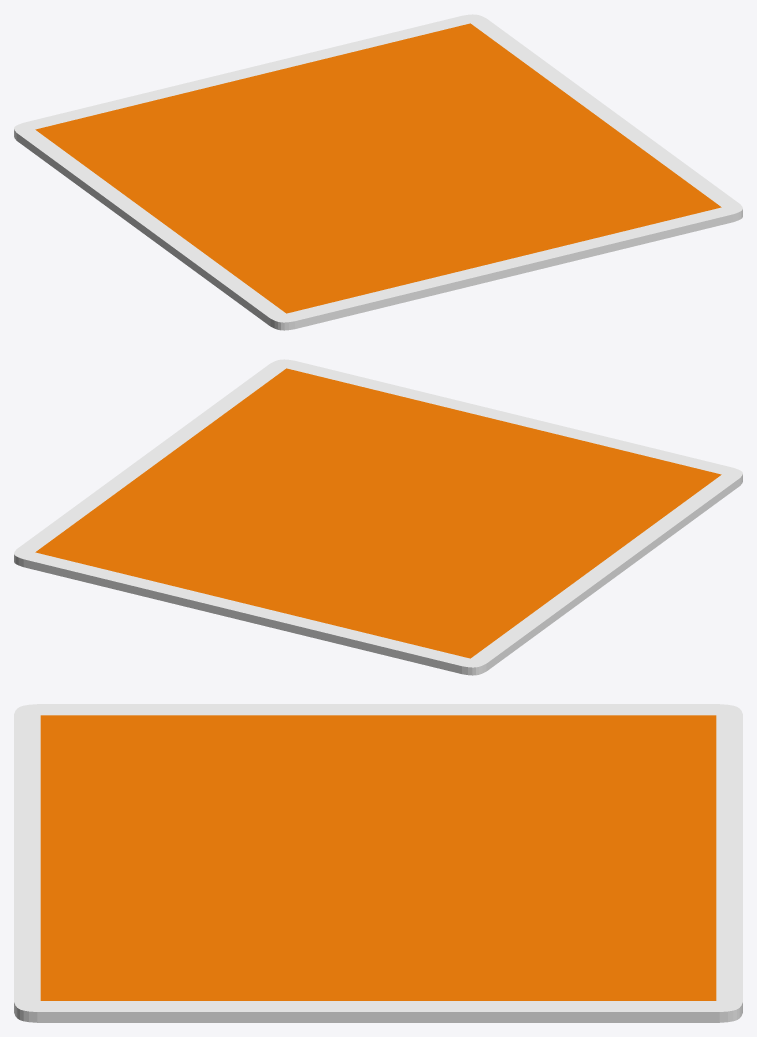
File: button.gltf
3 views of the same model, one above another, from view 1: azimuth 30°, elevation 25°; view 2: azimuth 150°, elevation 25°; view 3: azimuth 270°, elevation 25° (orthographic). The views are drawn at different scales.
Visible parts, largest first — view 1: Plane.001; view 2: Plane.001; view 3: Plane.001.
Part boxes in pixels (x1=…): Plane.001: x1=14, y1=14, x2=742, y2=330; Plane.001: x1=14, y1=359, x2=742, y2=675; Plane.001: x1=14, y1=704, x2=742, y2=1022.
Bounding box in the file's own units: 1.99 × 0.0323 × 1.99.
